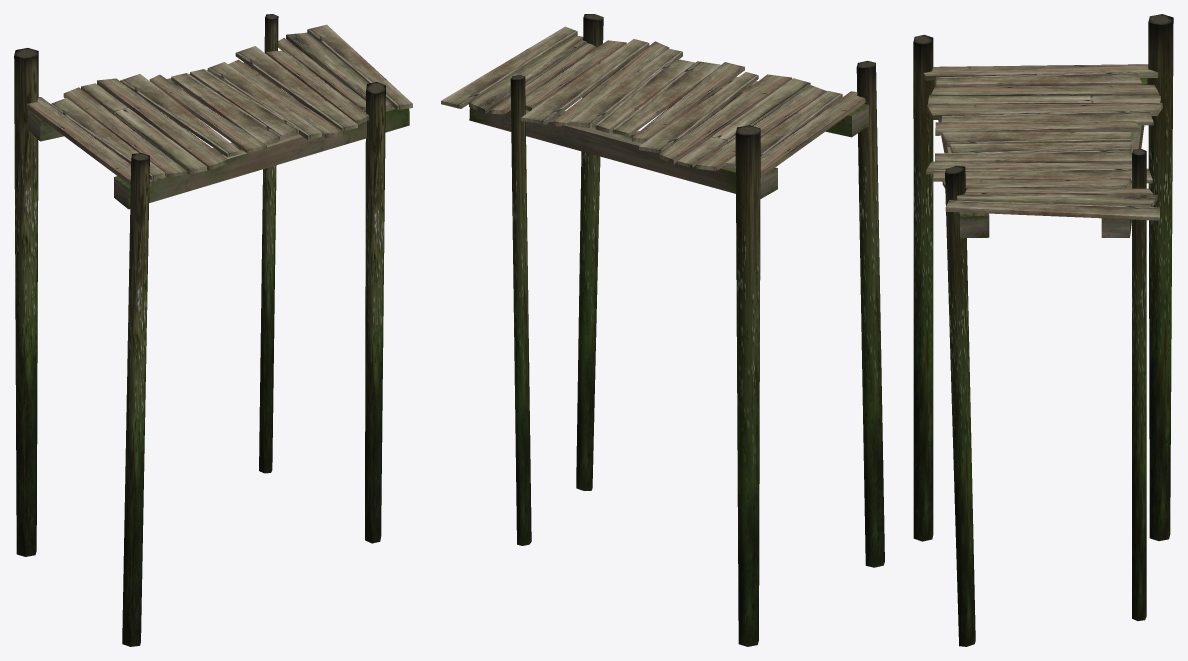
File: pier_bridge.fbx
The picture shows the model from 3 angles, left to right: view 1: azimuth 30°, elevation 25°; view 2: azimuth 150°, elevation 25°; view 3: azimuth 270°, elevation 25°; orthographic projection. The views are drawn at different scales.
Parts seen in each view (by area): view 1: pylon_13, pylon_5, pylon_23, support_1, pylon_14, plank_85, plank_86, plank_60, plank_61, plank_67, plank_84, plank_91 (+10 smaller); view 2: pylon_13, pylon_5, pylon_14, pylon_23, support_2, plank_85, plank_86, plank_60, plank_84, plank_62, plank_67, plank_88 (+10 smaller); view 3: pylon_13, pylon_5, pylon_23, pylon_14, plank_62, plank_85, plank_64, plank_60, plank_61, plank_91, plank_92, plank_66 (+10 smaller).
Boxes of the visible parts, x1,y1,x2,y2 form: pylon_13: (14, 48, 38, 556); pylon_5: (122, 153, 149, 646); pylon_23: (365, 82, 385, 543); support_1: (114, 106, 409, 209); pylon_14: (259, 14, 278, 473); plank_85: (97, 78, 227, 170); plank_86: (235, 46, 357, 130); plank_60: (26, 97, 153, 186); plank_61: (63, 87, 187, 177); plank_67: (81, 83, 206, 174); plank_84: (120, 74, 240, 156); plank_91: (149, 74, 266, 152); pylon_13: (735, 125, 760, 646); pylon_5: (856, 60, 884, 567); pylon_14: (510, 75, 531, 545); pylon_23: (576, 14, 603, 490); support_2: (469, 107, 777, 198); plank_85: (659, 74, 792, 164); plank_86: (521, 39, 649, 124); plank_60: (760, 91, 865, 177); plank_84: (639, 72, 758, 153); plank_62: (441, 26, 577, 108); plank_67: (678, 78, 810, 167); plank_88: (613, 61, 721, 136); pylon_13: (1148, 14, 1173, 540); pylon_5: (913, 34, 933, 541); pylon_23: (945, 165, 975, 646); pylon_14: (1132, 148, 1146, 620); plank_62: (945, 200, 1159, 220); plank_85: (927, 103, 1162, 119); plank_64: (936, 72, 1141, 86); plank_60: (923, 64, 1158, 80); plank_61: (931, 84, 1159, 95); plank_91: (935, 121, 1140, 135); plank_92: (935, 150, 1131, 163); plank_66: (956, 192, 1157, 206).
Bounding box in the file's own units: 4639 × 7021 × 3169.
2 materials, 2 textured.
